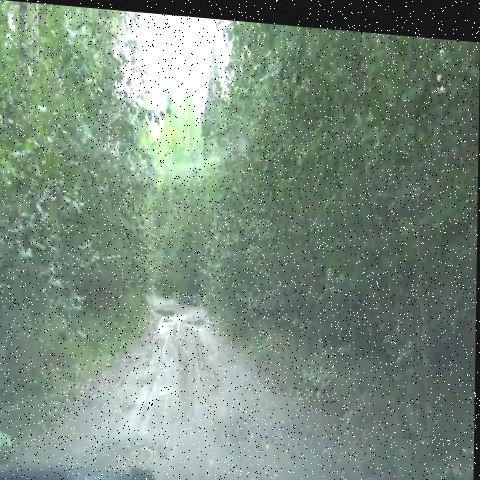pothole: (98, 409, 181, 479), (182, 307, 214, 335), (154, 302, 181, 331)
